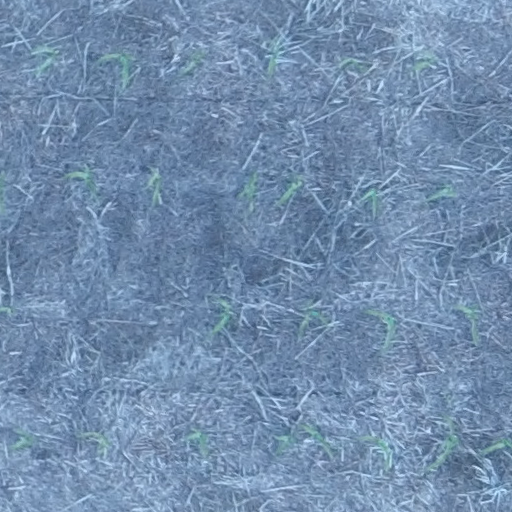planta: (424, 413, 462, 473), (363, 306, 398, 351), (357, 432, 394, 472), (97, 50, 135, 87), (297, 421, 334, 457), (453, 301, 481, 346), (209, 296, 234, 337), (236, 169, 260, 211), (297, 302, 330, 332), (275, 172, 304, 206), (61, 165, 97, 192), (78, 429, 112, 456), (33, 43, 60, 76), (184, 425, 211, 457), (145, 167, 163, 205), (8, 427, 35, 452), (181, 49, 207, 74), (360, 186, 381, 215), (410, 50, 436, 73), (427, 182, 458, 201), (338, 55, 368, 74), (265, 39, 280, 76), (274, 432, 296, 455)
